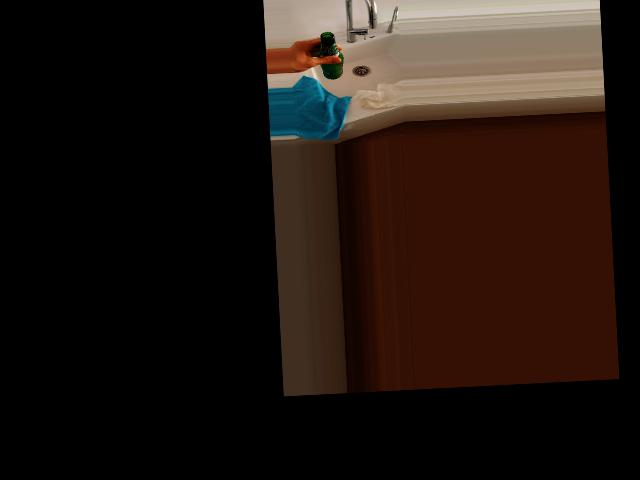beer: (316, 31, 344, 80)
